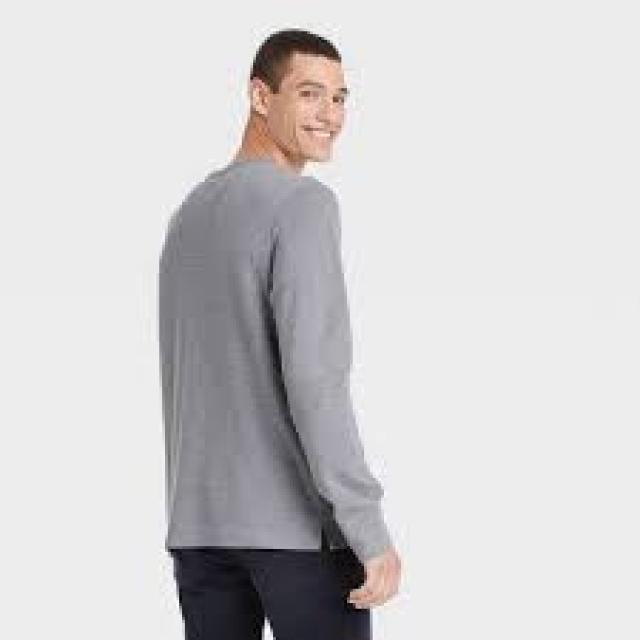plain: (149, 155, 393, 554)
